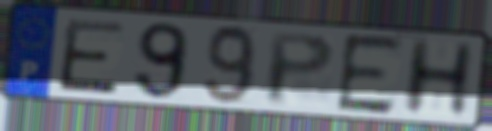9: (201, 22, 260, 109), (131, 20, 193, 101)
E: (333, 32, 407, 118), (55, 17, 128, 97)
H: (398, 37, 479, 117)
P: (264, 30, 338, 109)
